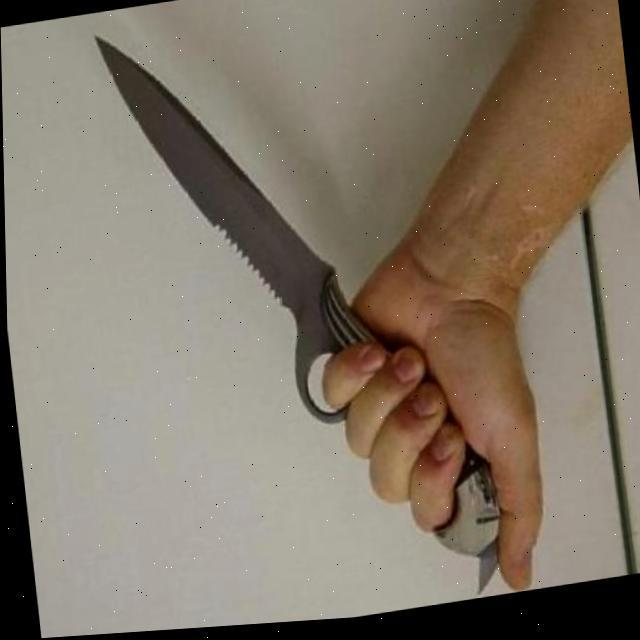knife: (94, 0, 507, 635)
